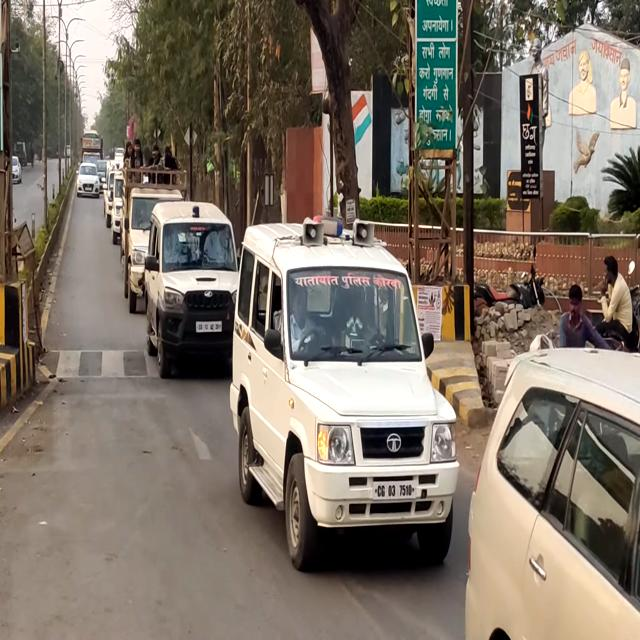emergency-vehicles: (218, 198, 462, 587), (144, 192, 242, 386)
